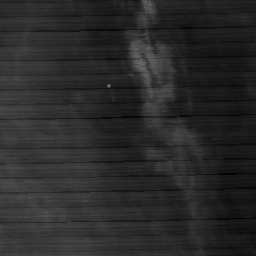Target: (105, 83, 112, 89)
